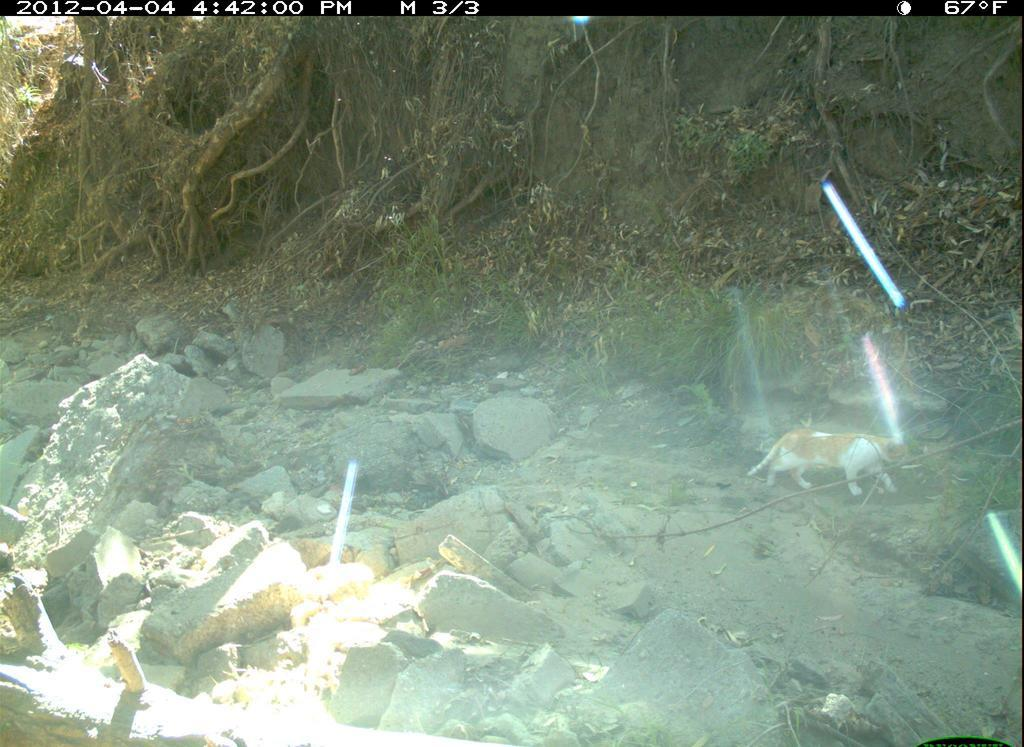cat: (738, 413, 929, 519)
